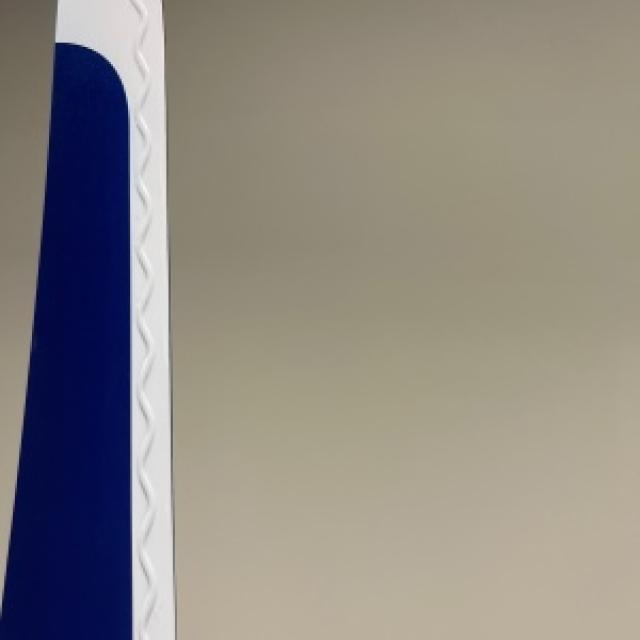healthy: (0, 0, 173, 638)
